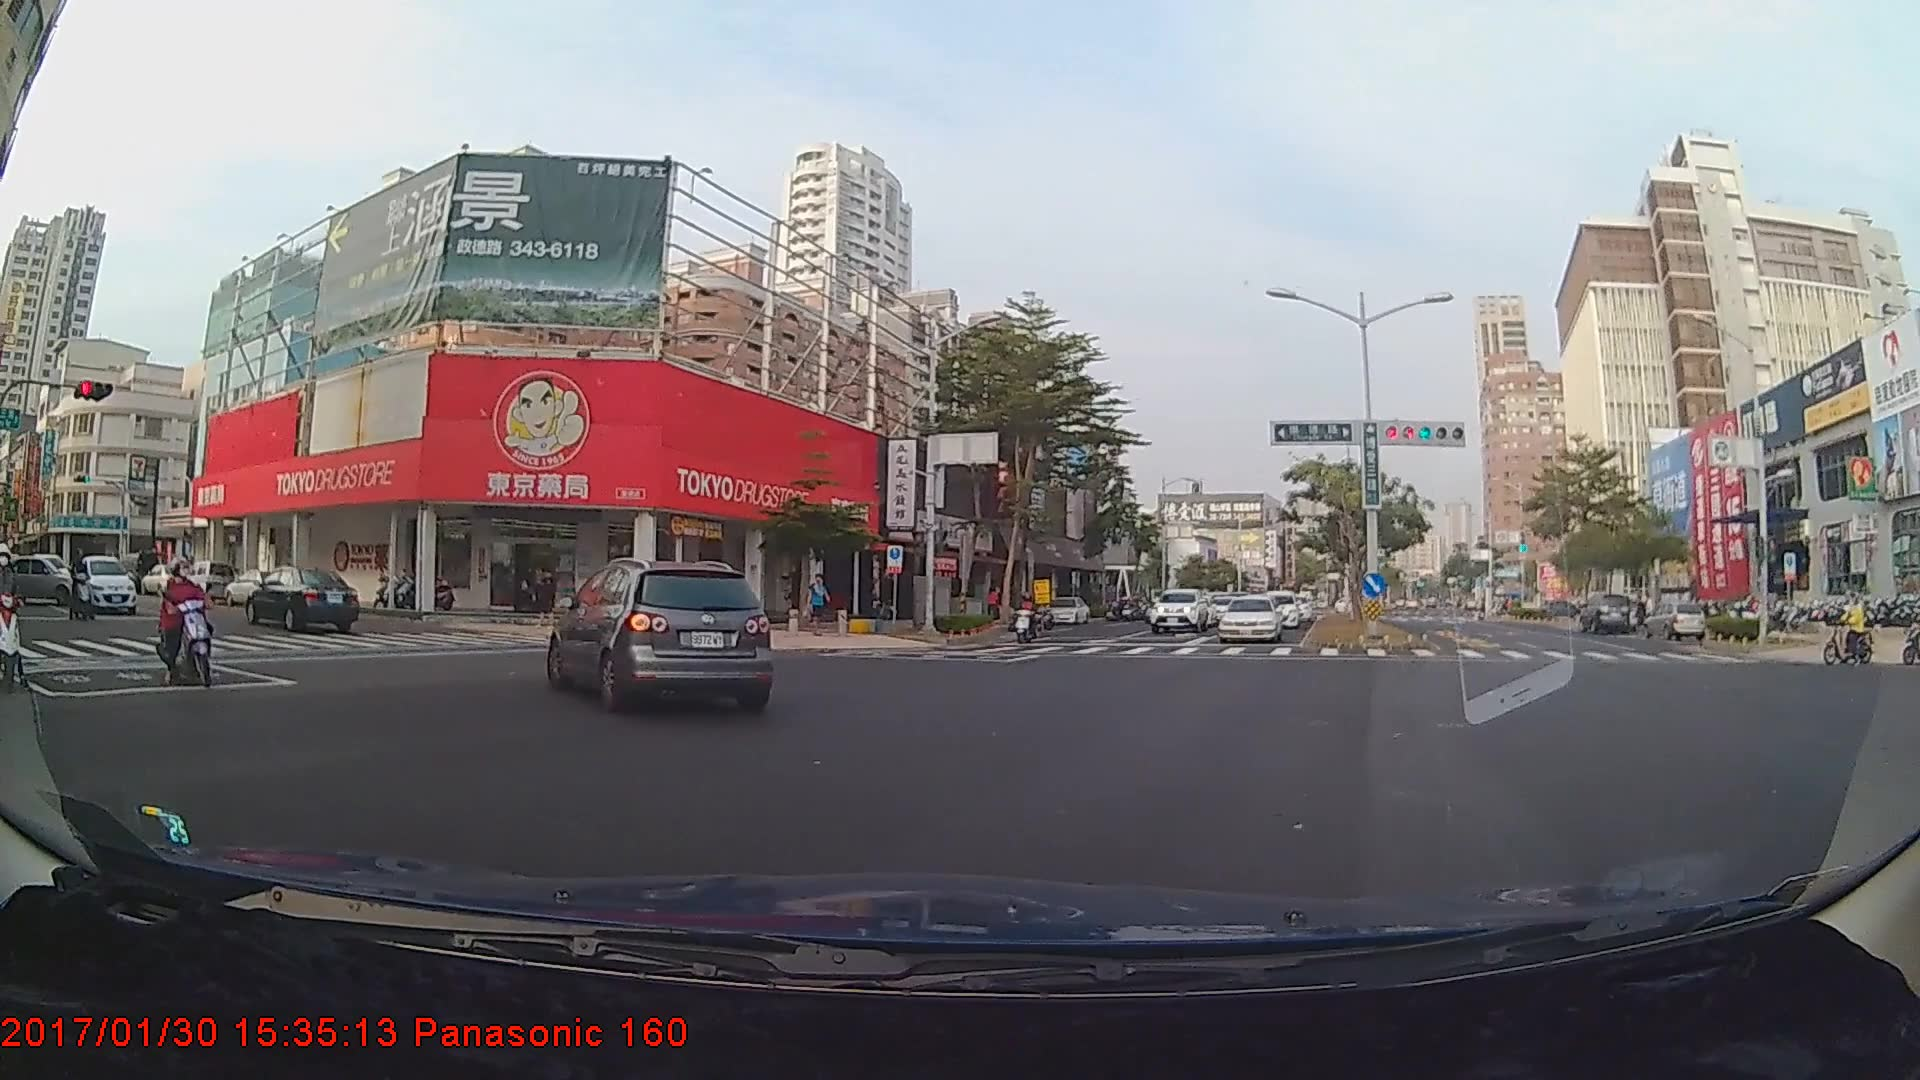pedestrian: (809, 572, 830, 643)
rider: (158, 560, 224, 687), (65, 546, 103, 627), (1013, 586, 1047, 644)
vehicle: (545, 556, 773, 713), (248, 566, 358, 635), (75, 555, 138, 613), (1217, 594, 1280, 642), (1150, 587, 1208, 635), (1575, 592, 1631, 634), (1253, 589, 1301, 628), (1009, 607, 1034, 628)
